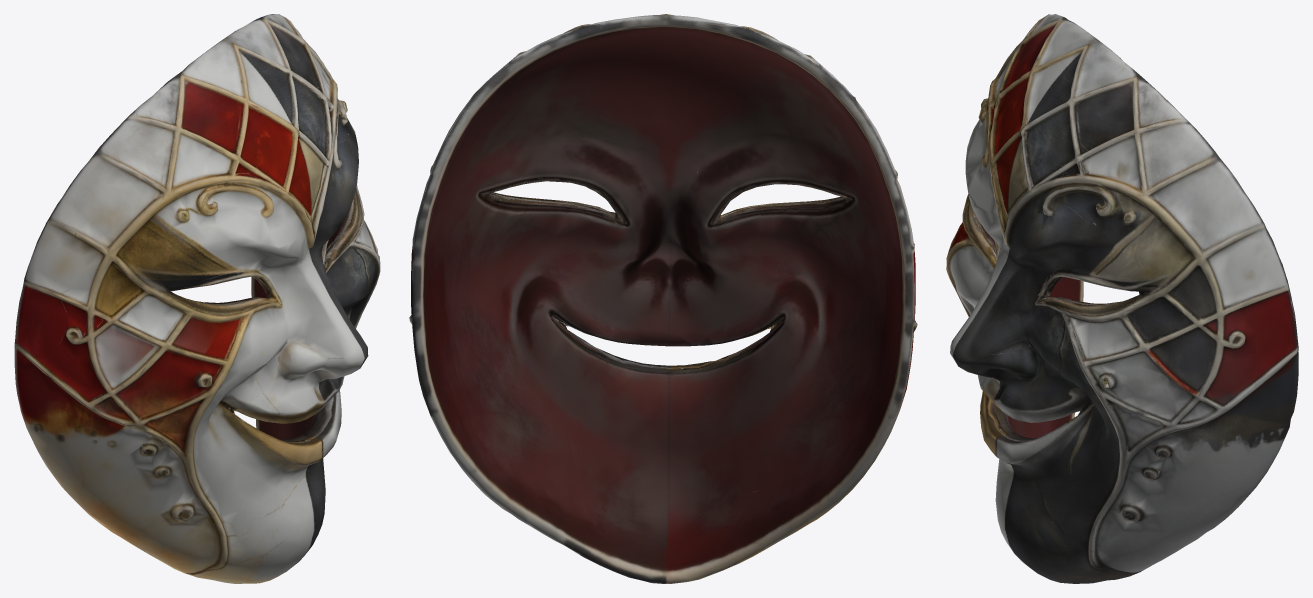
The model's file is opera-mask.glb.
3 renders of one model, left to right at view 1: azimuth 30°, elevation 25°; view 2: azimuth 150°, elevation 25°; view 3: azimuth 270°, elevation 25°, orthographic. The views are drawn at different scales.
Parts seen in each view (by area): view 1: Harlequin_21_Mid; view 2: Harlequin_21_Mid; view 3: Harlequin_21_Mid.
Part boxes in pixels (x1,y1,x2,y2): Harlequin_21_Mid: (14,14,380,583); Harlequin_21_Mid: (409,14,917,583); Harlequin_21_Mid: (946,14,1298,583).
Size of the model in its own units: 0.1899 by 0.2503 by 0.1497.
1 material, 1 textured.
